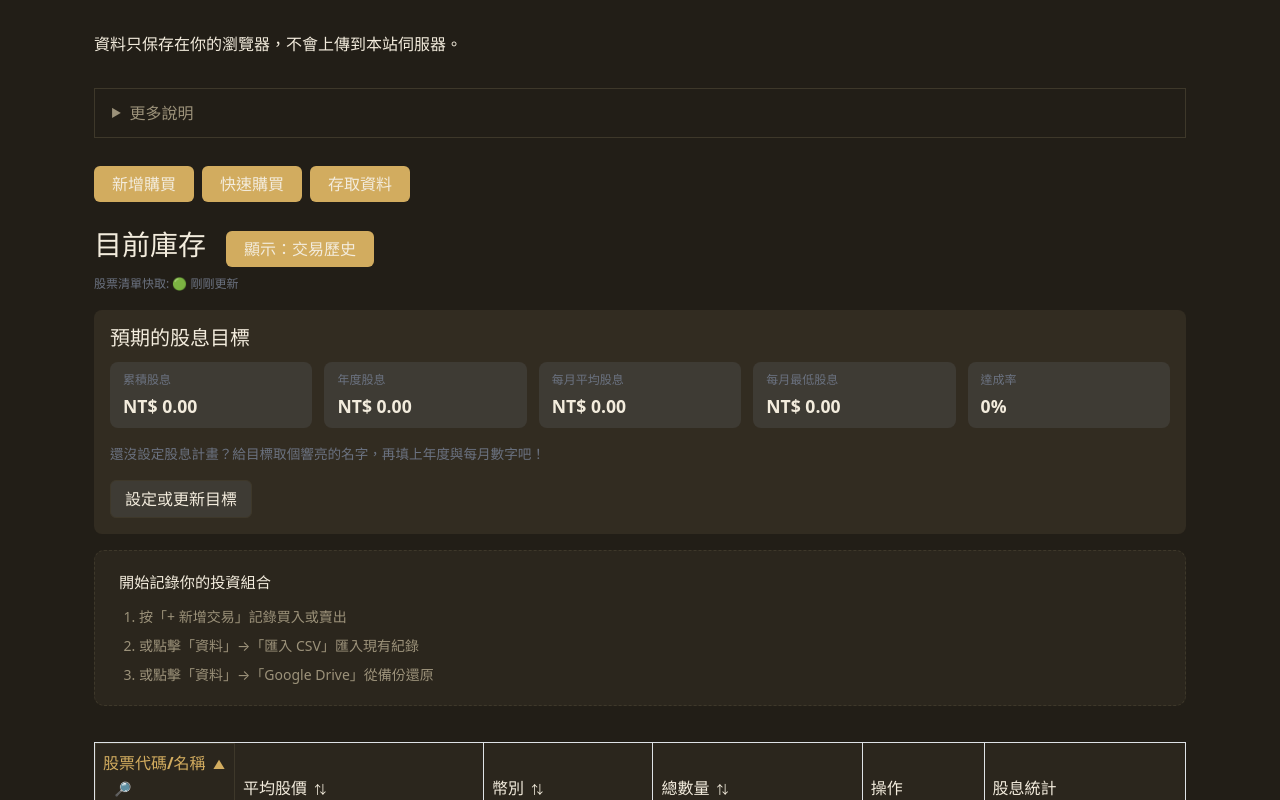
Test: InventoryTab interactions › opens add transaction modal
The image size is (1280, 800).
Click the button "新增購買".
click(144, 184)  # box [94, 166, 194, 202]
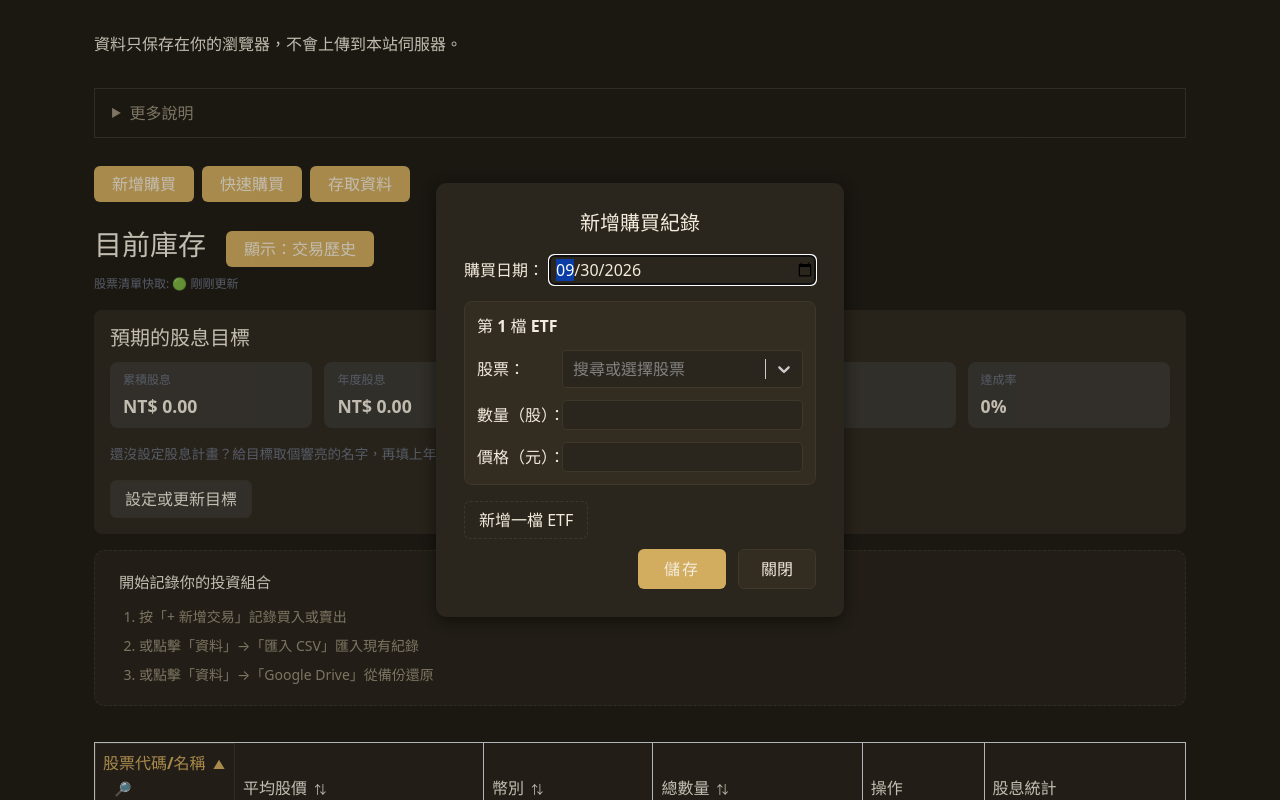
expect the heading "新增購買紀錄" is shown: met, box [580, 209, 700, 236]
